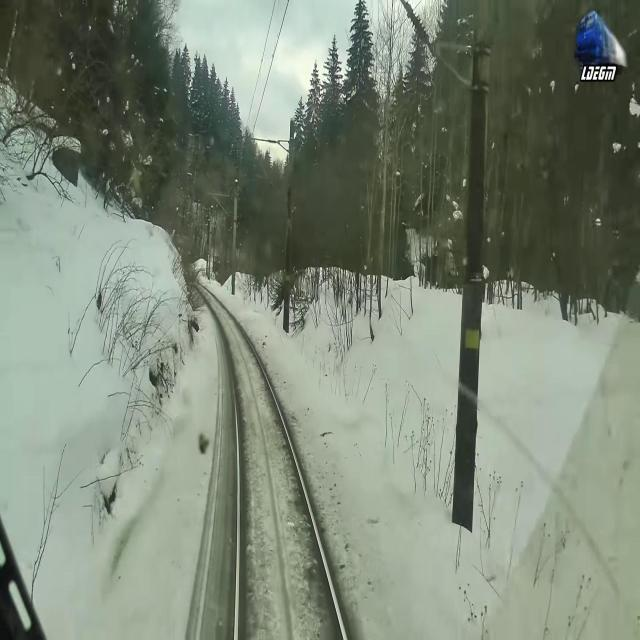rail-track: (195, 281, 343, 639)
